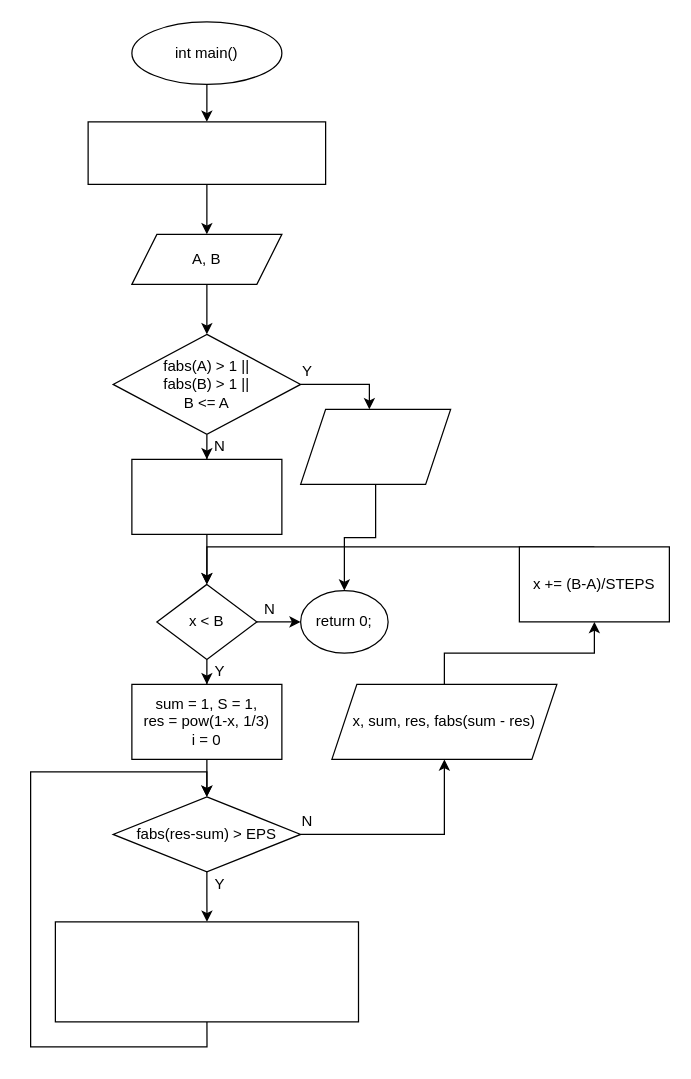
Some shapes in this 691 by 1079 pixel diagram are drawn without their labels. Here are the shapes that lost their labels. From the top down, the centre of each, then its label:
[206,152]: STEPS = 20, EPS = 1e-10,
[375,446]: Incorrect input.
[206,496]: x = A
[206,971]: S *= (3.0*i - 1)/(3.0*i + 3) * x; sum += S; i++;
